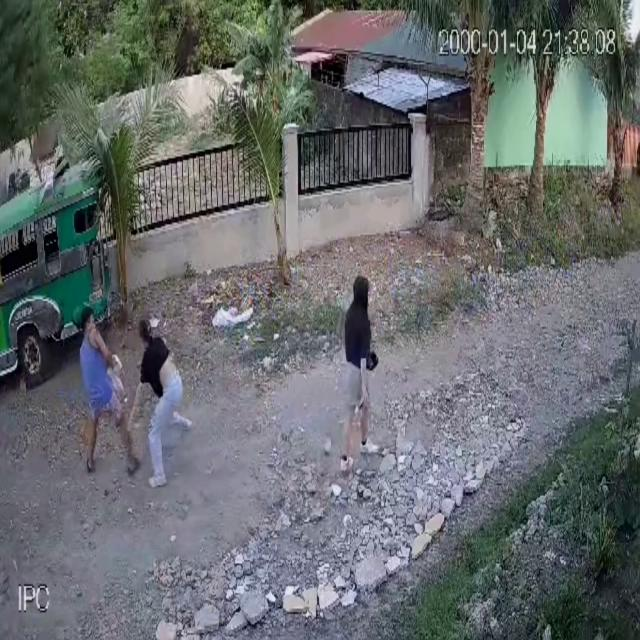walking: (336, 274, 383, 482)
